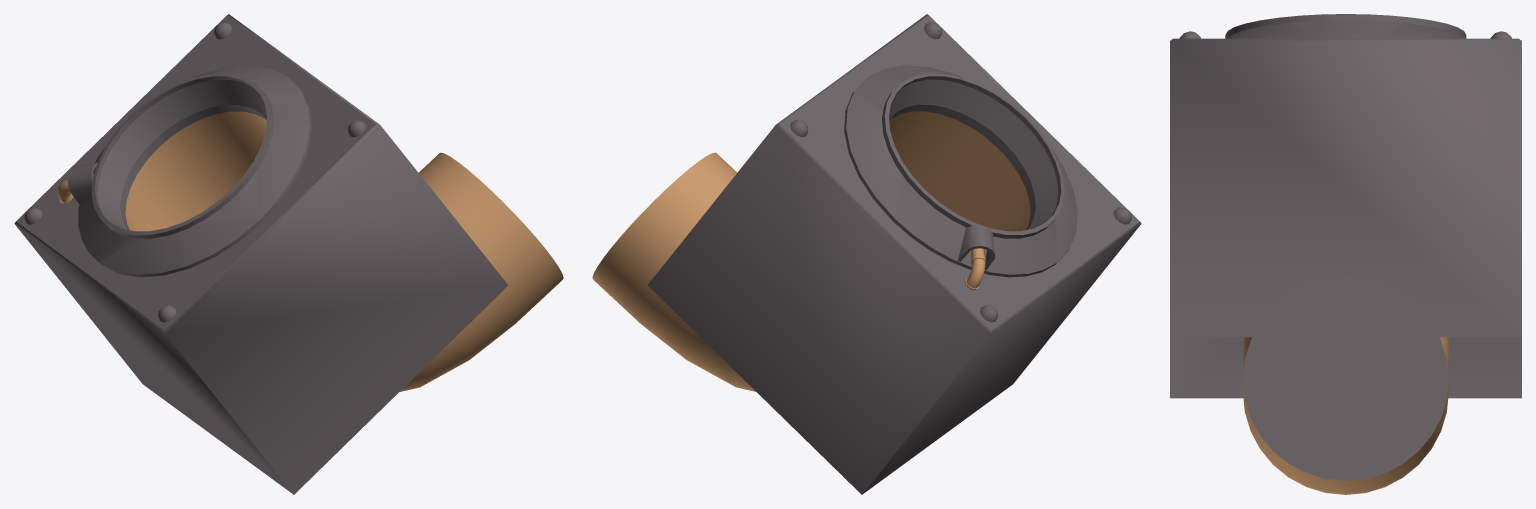
File: Vent_thick.fbx
The picture shows the model from 3 angles, left to right: view 1: azimuth 30°, elevation 25°; view 2: azimuth 150°, elevation 25°; view 3: azimuth 270°, elevation 25°; orthographic projection. The views are drawn at different scales.
Parts seen in each view (by area): view 1: Vent_base.002; view 2: Vent_base.002; view 3: Vent_base.002.
Part boxes in pixels (box(x1,y1,x2,y2)): Vent_base.002: box(14, 14, 563, 494); Vent_base.002: box(592, 14, 1141, 494); Vent_base.002: box(1170, 14, 1521, 494).
Size of the model in its own units: 472 by 347 by 271.
